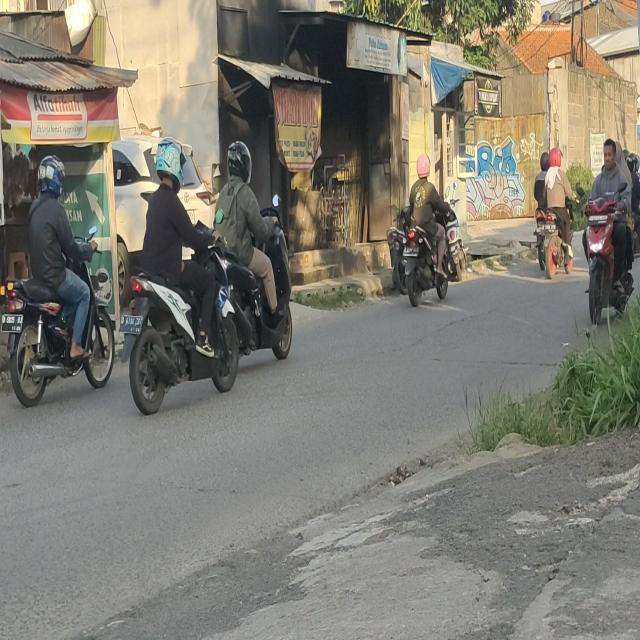helmet: (156, 135, 187, 190), (38, 152, 65, 198), (228, 140, 254, 183), (416, 153, 431, 180), (550, 147, 563, 169), (628, 153, 640, 174), (540, 150, 549, 169)
no-helmet: (602, 140, 616, 170), (614, 140, 625, 168)
